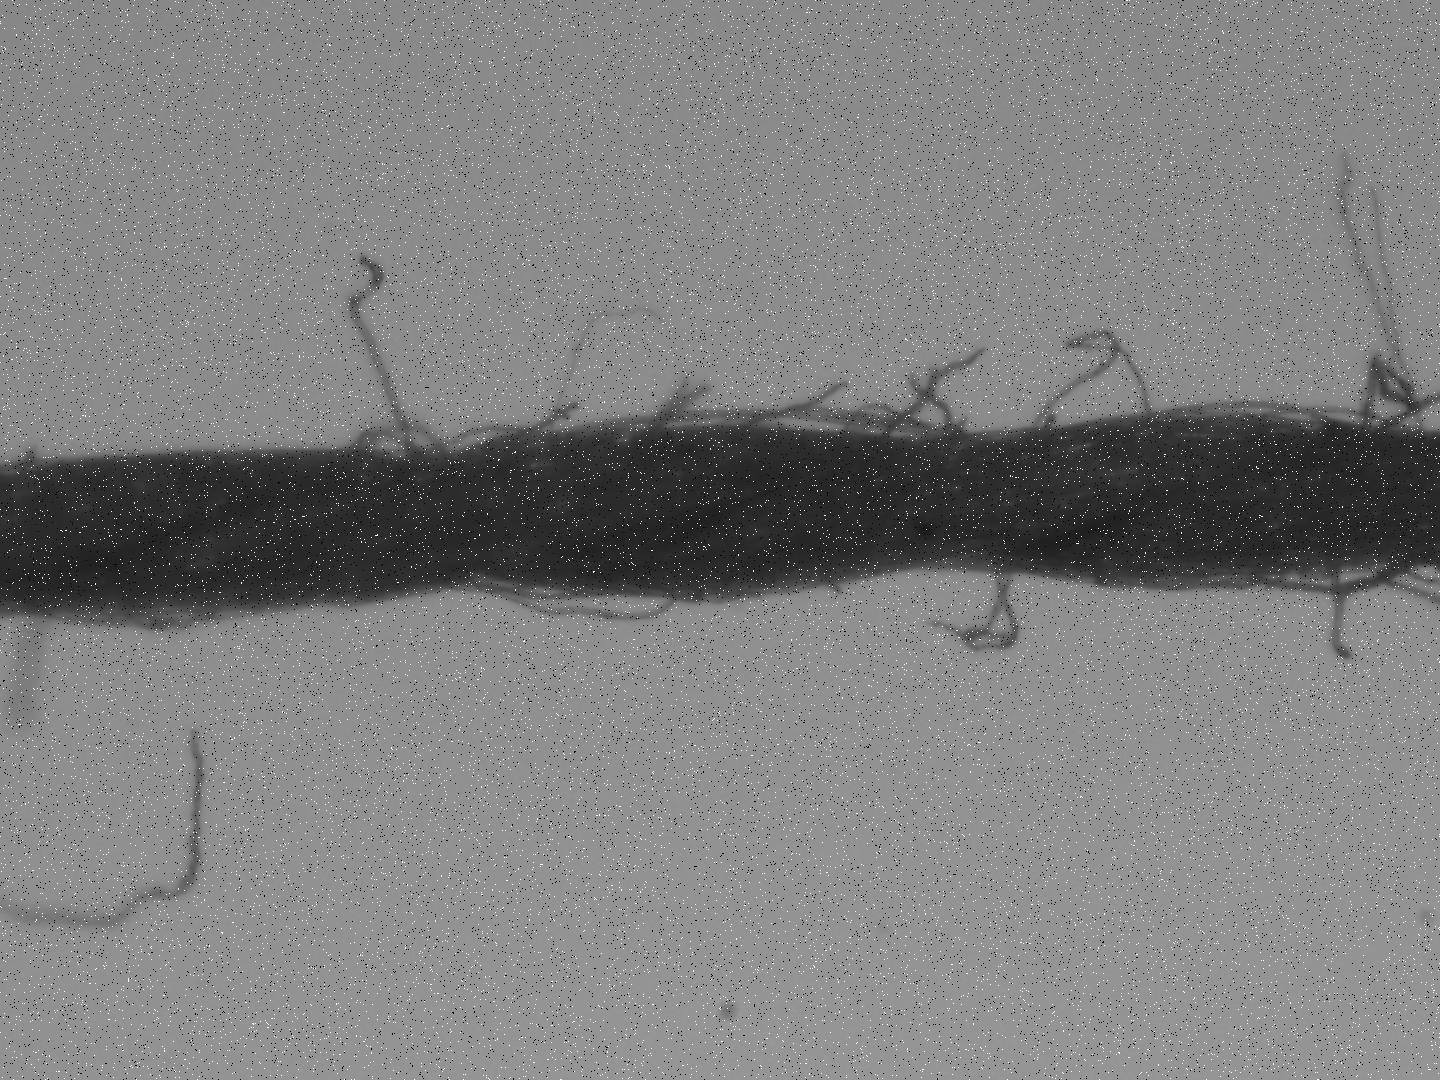loop_fiber: (575, 411, 937, 438), (497, 584, 678, 625), (1243, 557, 1421, 592), (1166, 399, 1328, 428), (348, 425, 443, 456), (448, 424, 530, 450)
protruding_fiber: (350, 256, 413, 461), (879, 345, 989, 441), (1322, 560, 1353, 664)
